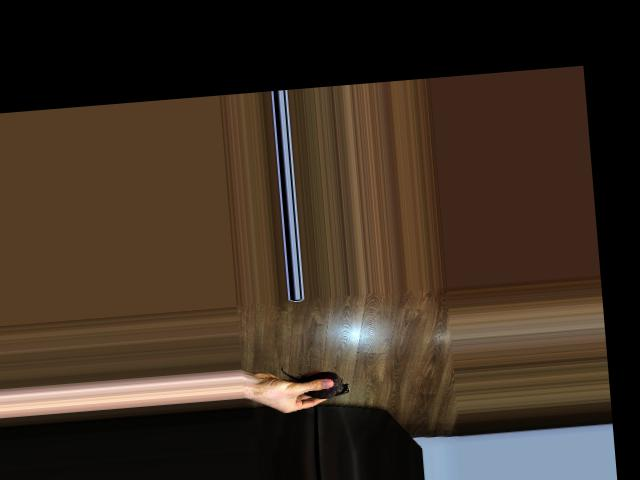beet: (282, 361, 350, 401)
